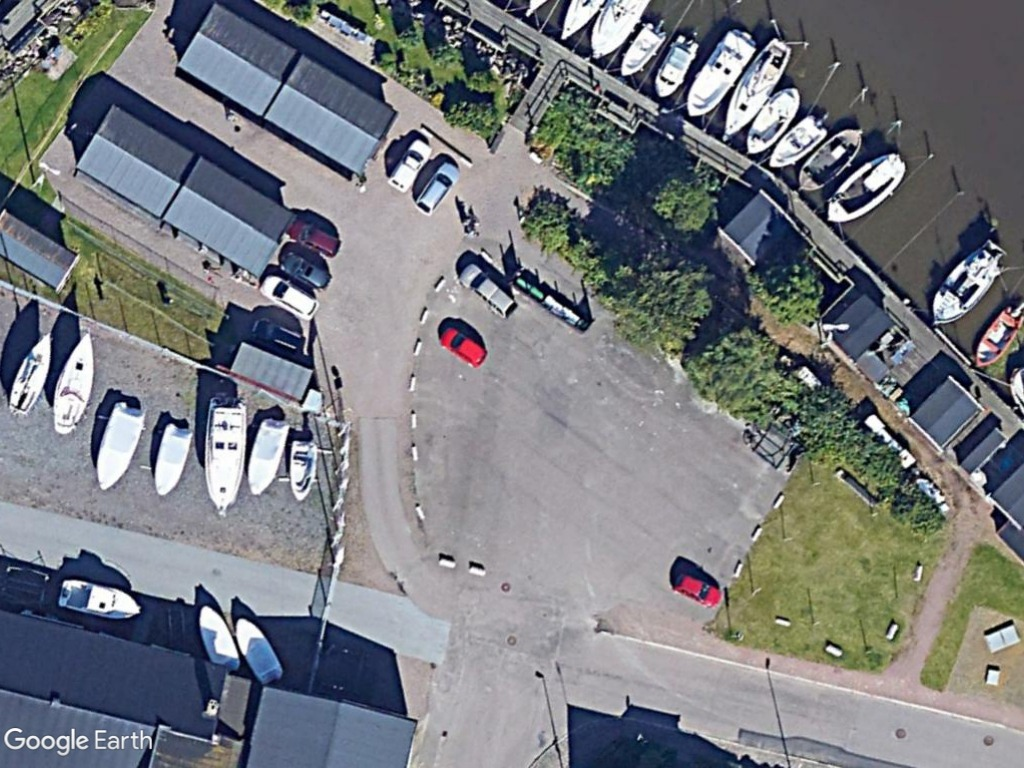boat: (712, 36, 796, 145), (681, 24, 764, 121), (923, 243, 1007, 330), (817, 148, 911, 225), (200, 393, 249, 520), (48, 324, 99, 440), (90, 396, 148, 494), (793, 121, 864, 196), (737, 82, 803, 159), (4, 324, 58, 418), (239, 412, 292, 500), (230, 612, 285, 692), (56, 577, 147, 624), (763, 113, 829, 174), (966, 304, 1024, 371), (648, 31, 702, 102), (147, 421, 196, 499), (195, 601, 243, 676), (611, 20, 669, 81), (283, 431, 320, 504)
car: (458, 259, 520, 321), (255, 271, 322, 323), (410, 158, 462, 217), (384, 136, 434, 194), (436, 322, 491, 373), (280, 247, 335, 292), (286, 216, 344, 258), (671, 568, 726, 611)
